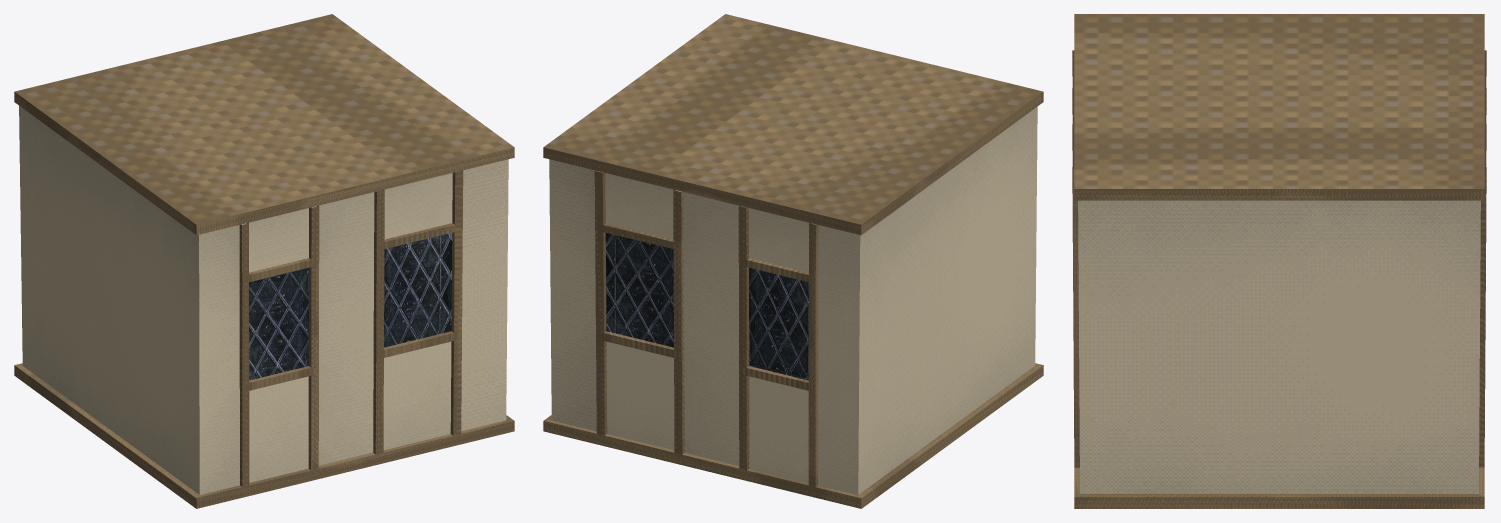
Rendered from house_square_mid.fbx.
3 renders of one model, left to right at view 1: azimuth 30°, elevation 25°; view 2: azimuth 150°, elevation 25°; view 3: azimuth 270°, elevation 25°, orthographic. The views are drawn at different scales.
Parts seen in each view (by area): view 1: polySurface4; view 2: polySurface4; view 3: polySurface4.
Part boxes in pixels (bbox=[...]): polySurface4: bbox=[14, 14, 514, 508]; polySurface4: bbox=[543, 14, 1043, 508]; polySurface4: bbox=[1072, 14, 1486, 508].
Size of the model in its own units: 15.89 by 13.57 by 15.91.
2 materials, 2 textured.
